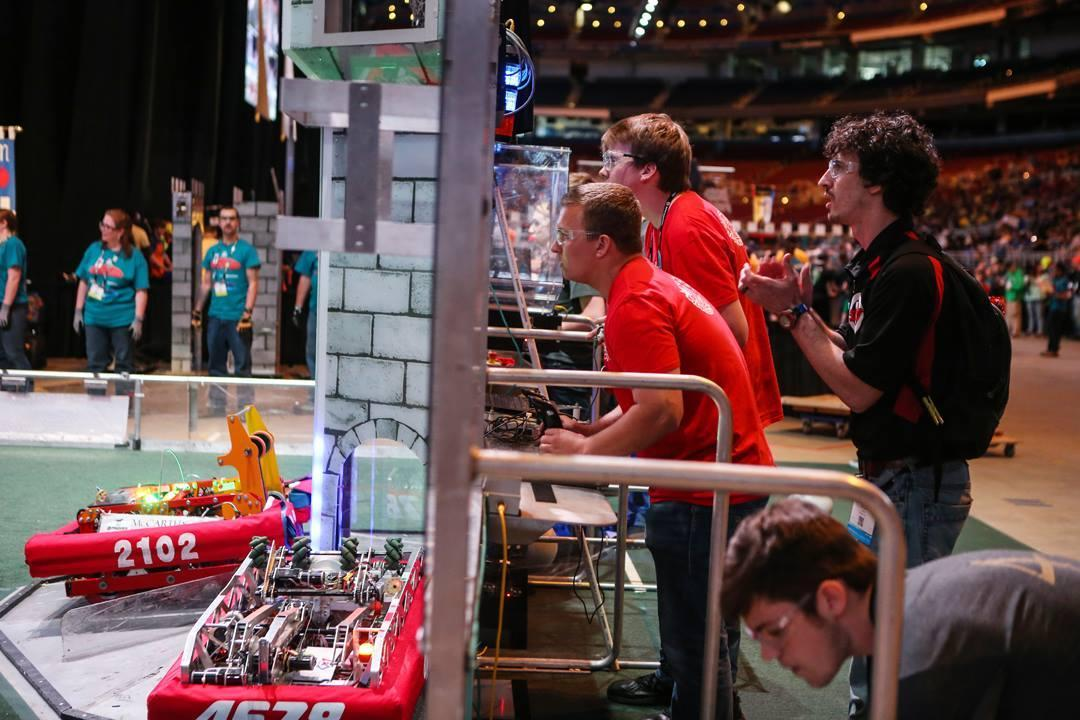robot: (128, 484, 455, 720), (27, 385, 325, 602)
